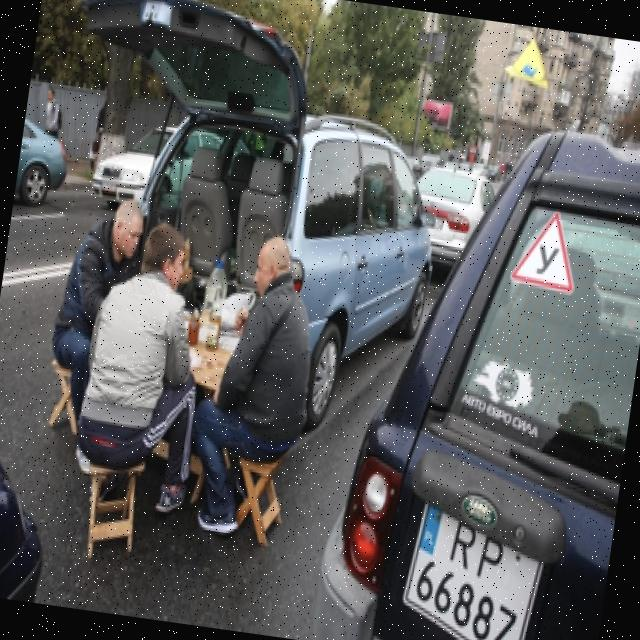EU: (400, 500, 545, 640)
Pologne: (415, 503, 443, 556)
